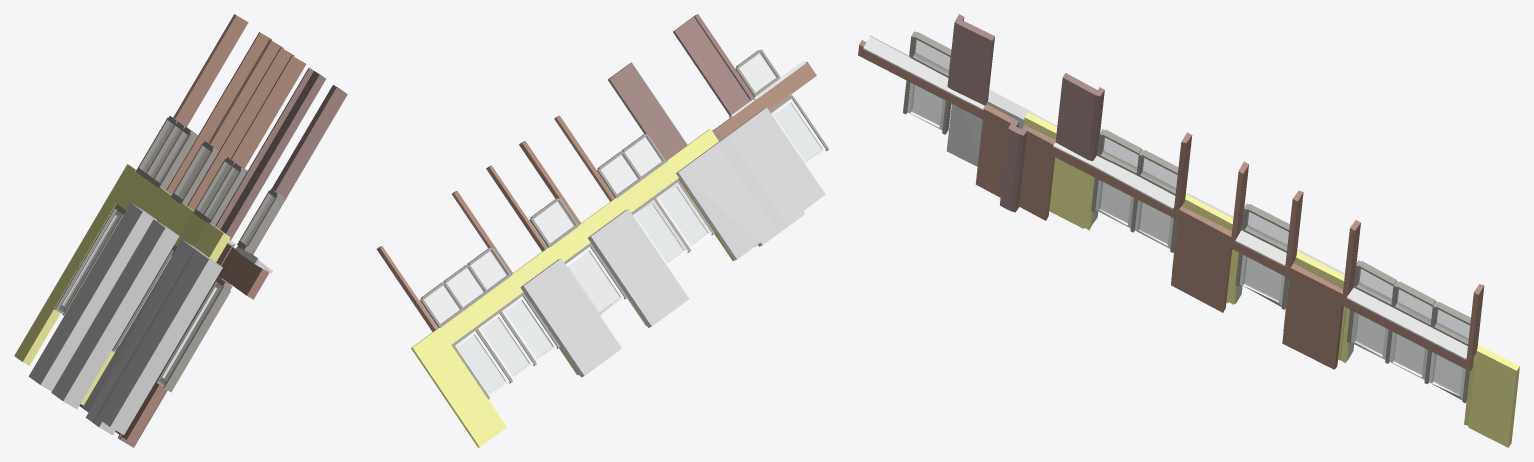
3 views of the same model, side by side, from view 1: azimuth 30°, elevation 25°; view 2: azimuth 150°, elevation 25°; view 3: azimuth 270°, elevation 25° (orthographic). The views are drawn at different scales.
Visible parts, largest first — view 1: mesh; view 2: mesh; view 3: mesh.
Part boxes in pixels (x1,y1,x2,y2): mesh: (14,14,347,447); mesh: (376,14,829,447); mesh: (858,14,1519,447).
Bounding box in the file's own units: 7.51 × 8.12 × 11.68.
